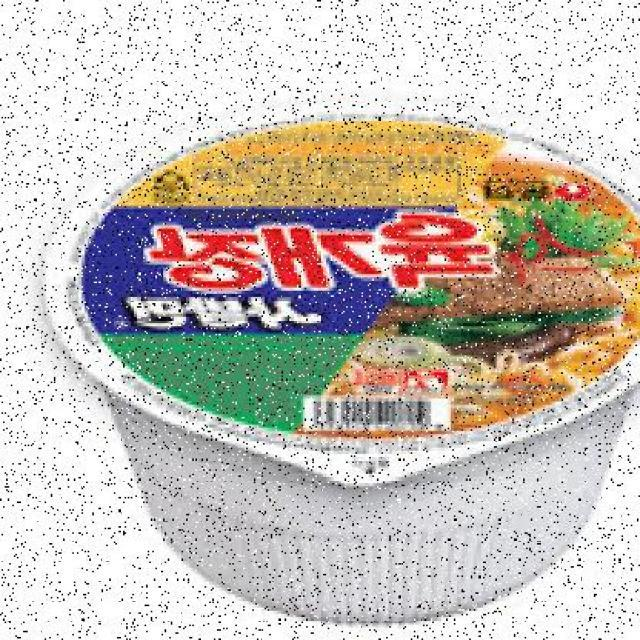Miscellaneous: (38, 98, 640, 620)
